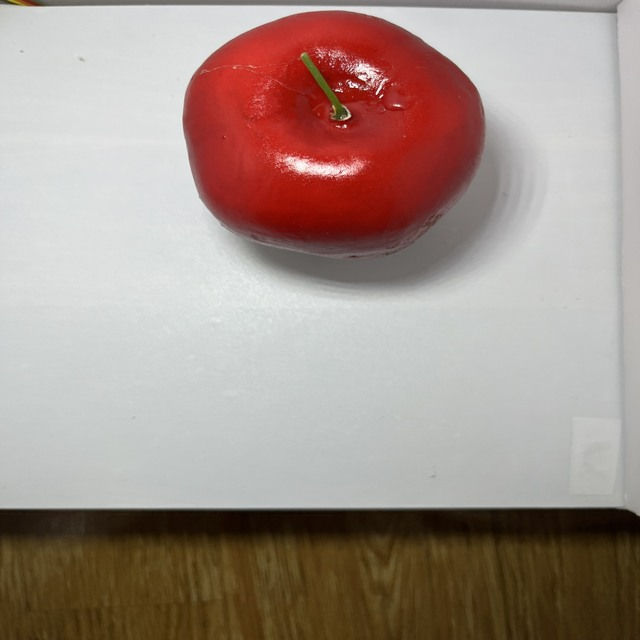Tao: (174, 8, 499, 270)
